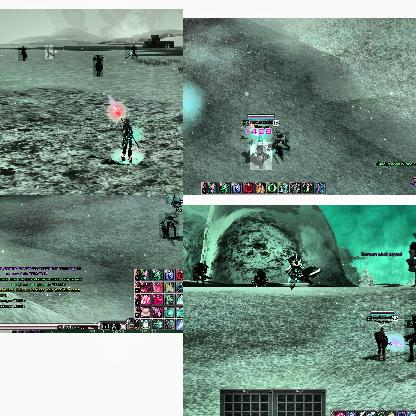caliana: (250, 142, 272, 170), (404, 314, 416, 362), (159, 213, 179, 239), (273, 132, 289, 156), (93, 55, 103, 77), (125, 45, 137, 59), (166, 195, 180, 204), (45, 45, 53, 59), (18, 47, 26, 61)
